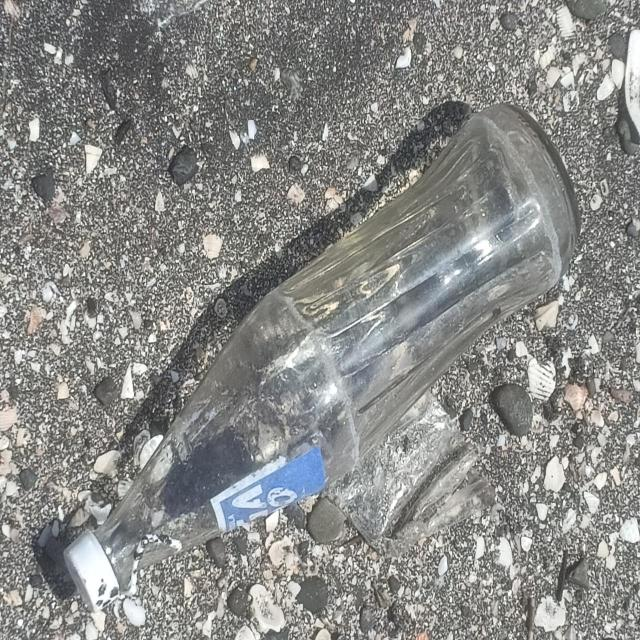litter: (64, 103, 579, 615)
